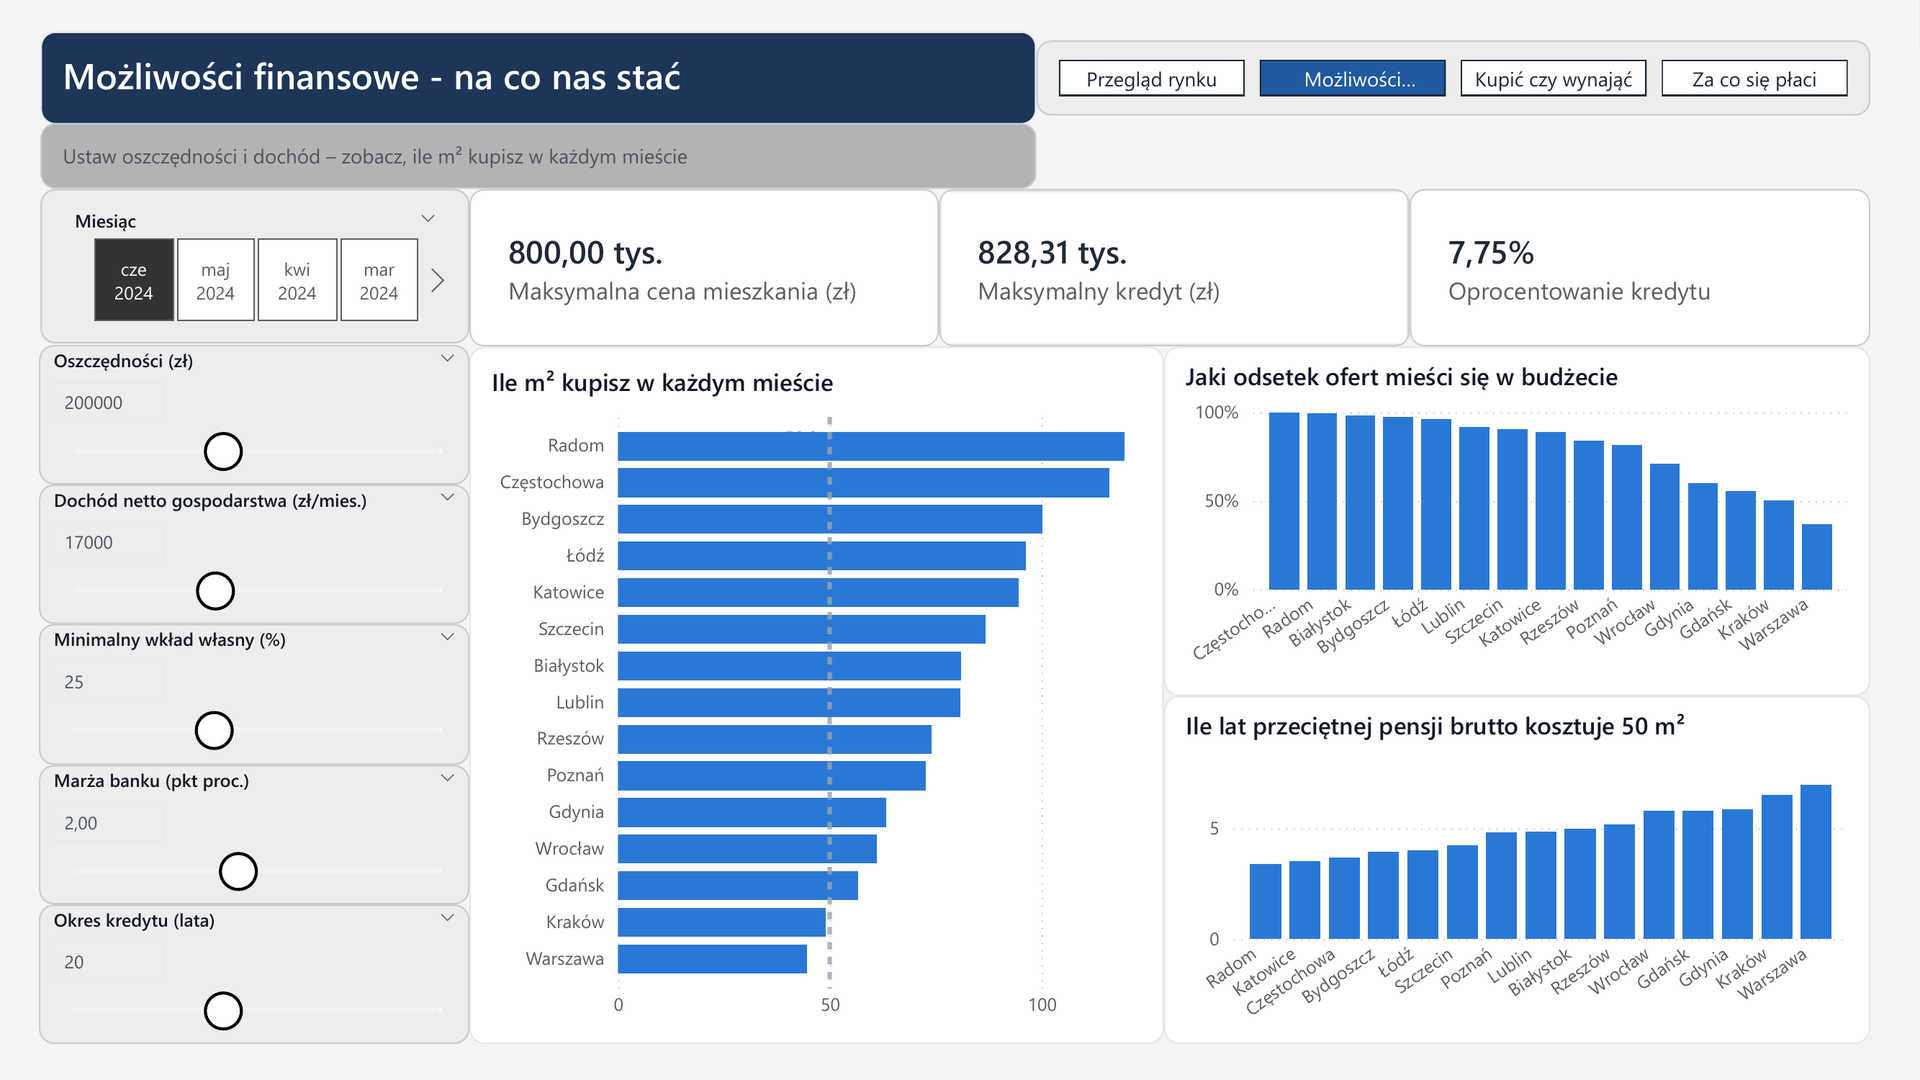

This screenshot's page, from the dashboard's own definition file:
{"tool":"powerbi","page":{"name":"Możliwości Finansowe","canvas":[1280,720],"ordinal":1},"visuals":[{"type":"textbox","box":[26.5,21,664.3,61.9],"z":0},{"type":"textbox","box":[26.5,81.8,664.3,44.2],"z":1000},{"type":"pageNavigator","box":[690.8,26.5,556,50.8],"z":2000},{"type":"slicer","fields":{"Values":["dim_month.month_label"]},"box":[26.9,126.3,285.8,102.5],"z":3000},{"type":"slicer","fields":{"Values":["Savings.Savings"]},"box":[26.3,229.5,286.9,93.4],"z":4000},{"type":"slicer","fields":{"Values":["Net Income.Net Income"]},"box":[26.3,322.9,286.9,93.4],"z":5000},{"type":"slicer","fields":{"Values":["Down Payment.Down Payment"]},"box":[26.3,416.3,286.9,93.4],"z":6000},{"type":"slicer","fields":{"Values":["Loan Term.Loan Term"]},"box":[26.3,603,286.9,93.4],"z":7000},{"type":"slicer","fields":{"Values":["Bank Margin.Bank Margin"]},"box":[26.3,509.7,286.9,93.4],"z":8000},{"type":"cardVisual","title":"Mediana ceny za m² (zł)","fields":{"Data":["_Measures.Max Budget"]},"box":[313.2,126.4,313.2,104.1],"z":9000},{"type":"cardVisual","title":"Mediana ceny za m² (zł)","fields":{"Data":["_Measures.Max Loan"]},"box":[626.4,126.4,313.2,104.1],"z":10000},{"type":"cardVisual","title":"Mediana ceny za m² (zł)","fields":{"Data":["_Measures.Mortgage Rate"]},"box":[939.6,126.4,307.4,104.1],"z":11000},{"type":"clusteredBarChart","title":"Ile m² kupisz w każdym mieście","fields":{"Category":["dim_city.city_name"],"Y":["_Measures.Affordable m2"]},"box":[313.2,230.5,463,465.9],"z":12000},{"type":"clusteredColumnChart","title":"Jaki odsetek ofert mieści się w budżecie","fields":{"Category":["dim_city.city_name"],"Y":["_Measures.Offers Within Budget %"]},"box":[776.2,230.5,470.8,233.4],"z":13000},{"type":"clusteredColumnChart","title":"Ile lat przeciętnej pensji brutto kosztuje 50 m²","fields":{"Category":["dim_city.city_name"],"Y":["_Measures.Years of Pay for 50 m2"]},"box":[776.2,464,470.8,232.5],"z":14000}]}

Visuals, with their boxes in screenshot pixels (x1, y1, x2, y2), scaled from the page's 1280x720 canvas onto the 1920x1080 screenshot:
textbox: x1=40, y1=32, x2=1036, y2=124
textbox: x1=40, y1=123, x2=1036, y2=189
pageNavigator: x1=1036, y1=40, x2=1870, y2=116
slicer - dim_month.month_label: x1=40, y1=189, x2=469, y2=343
slicer - Savings.Savings: x1=39, y1=344, x2=470, y2=484
slicer - Net Income.Net Income: x1=39, y1=484, x2=470, y2=624
slicer - Down Payment.Down Payment: x1=39, y1=624, x2=470, y2=765
slicer - Loan Term.Loan Term: x1=39, y1=904, x2=470, y2=1045
slicer - Bank Margin.Bank Margin: x1=39, y1=765, x2=470, y2=905
"Mediana ceny za m² (zł)" cardVisual: x1=470, y1=190, x2=940, y2=346
"Mediana ceny za m² (zł)" cardVisual: x1=940, y1=190, x2=1409, y2=346
"Mediana ceny za m² (zł)" cardVisual: x1=1409, y1=190, x2=1870, y2=346
"Ile m² kupisz w każdym mieście" clusteredBarChart: x1=470, y1=346, x2=1164, y2=1045
"Jaki odsetek ofert mieści się w budżecie" clusteredColumnChart: x1=1164, y1=346, x2=1870, y2=696
"Ile lat przeciętnej pensji brutto kosztuje 50 m²" clusteredColumnChart: x1=1164, y1=696, x2=1870, y2=1045
